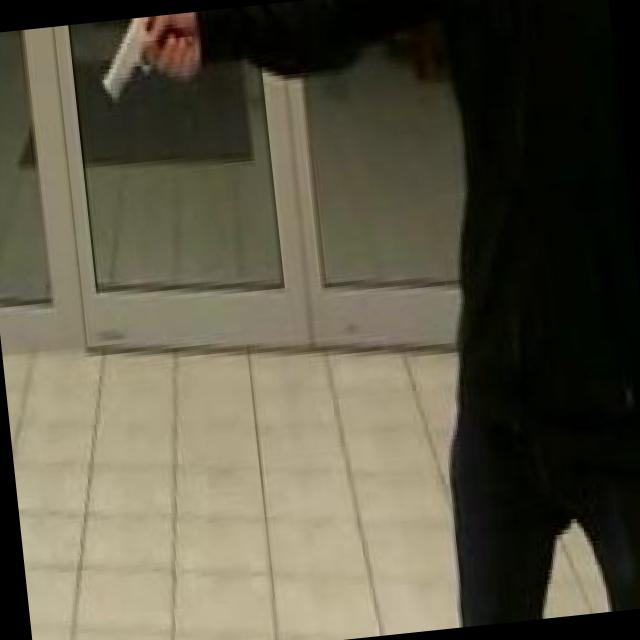Guns: (82, 12, 200, 107)
